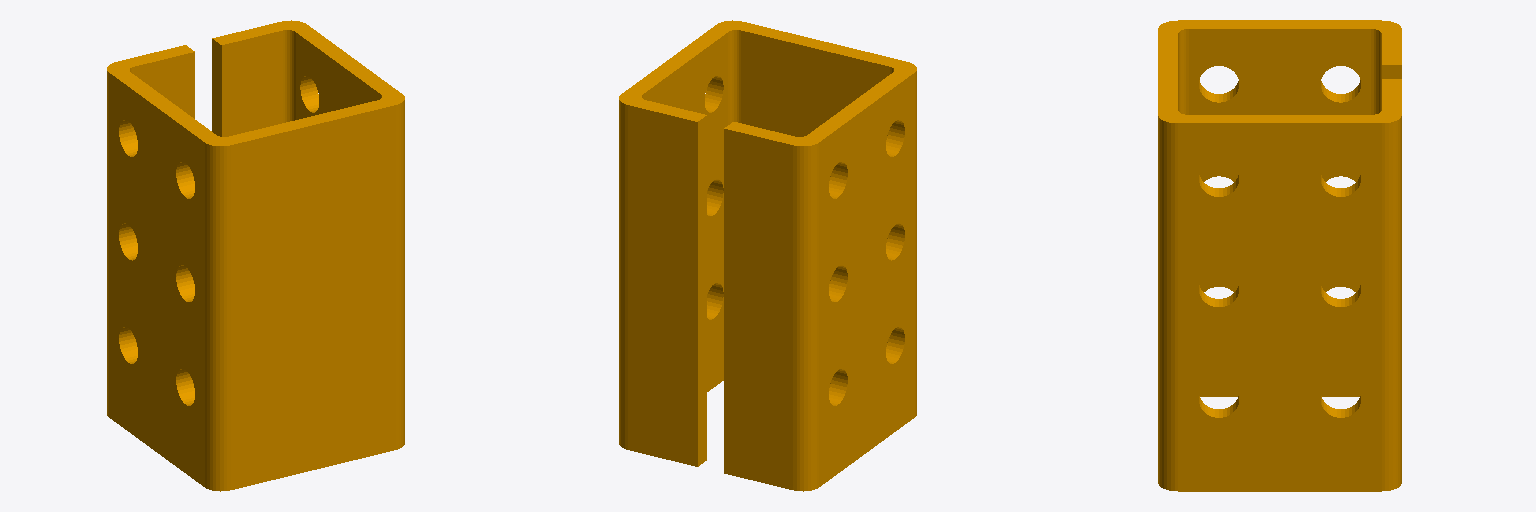
robot.urdf — benchmark_part_13:
<robot name="benchmark_part_13">
  <link name="base_link">
    <visual>
      <geometry>
        <mesh filename="benchmark_parts_stl/benchmark_part_13.stl" scale="0.001 0.001 0.001" />
      </geometry>
    <origin xyz="-0.02999999989486625 -0.1288964719131383 -0.049765140678882644" rpy="0 0 0" /></visual>
    <collision>
      <geometry>
        <mesh filename="benchmark_parts_stl/benchmark_part_13_vhacd.obj" scale="0.01 0.01 0.01" />
      </geometry>
    <origin xyz="-0.02999999989486625 -0.1288964719131383 -0.049765140678882644" rpy="0 0 0" /></collision>
    <inertial>
      <mass value="0.1" />
      <inertia ixx="0.001" ixy="0.0" ixz="0.0" iyy="0.001" iyz="0.0" izz="0.001" />
    </inertial>
  </link>
</robot>

--- Render facts (derived) ---
Views: 3 orthographic renders of the robot side by side, from view 1: azimuth 30°, elevation 25°; view 2: azimuth 150°, elevation 25°; view 3: azimuth 270°, elevation 25°.
Model benchmark_part_13 with 1 links and 0 joints (none), rooted at base_link, posed all joints at 0.
Visible links, largest first — view 1: base_link; view 2: base_link; view 3: base_link.
Boxes of the visible links, x1,y1,x2,y2 form: base_link: (107,20,404,491); base_link: (619,20,916,491); base_link: (1158,20,1401,491).
Size in the robot's own frame: 0.06 by 0.06 by 0.1 metres.
1 mesh visuals loaded from 1 distinct referenced files (1 binary STL).